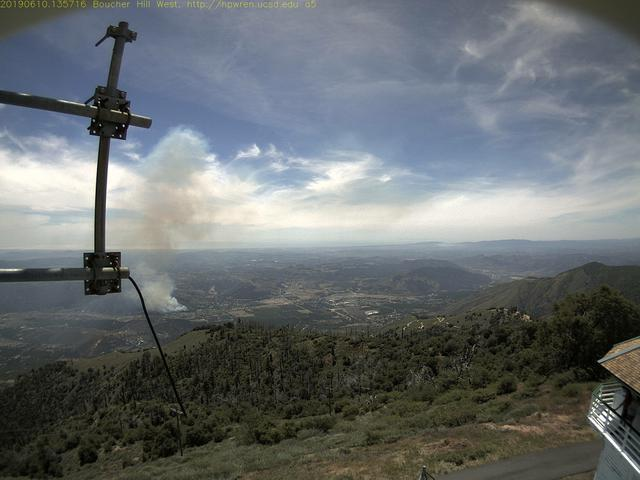smoke: (136, 126, 225, 318)
